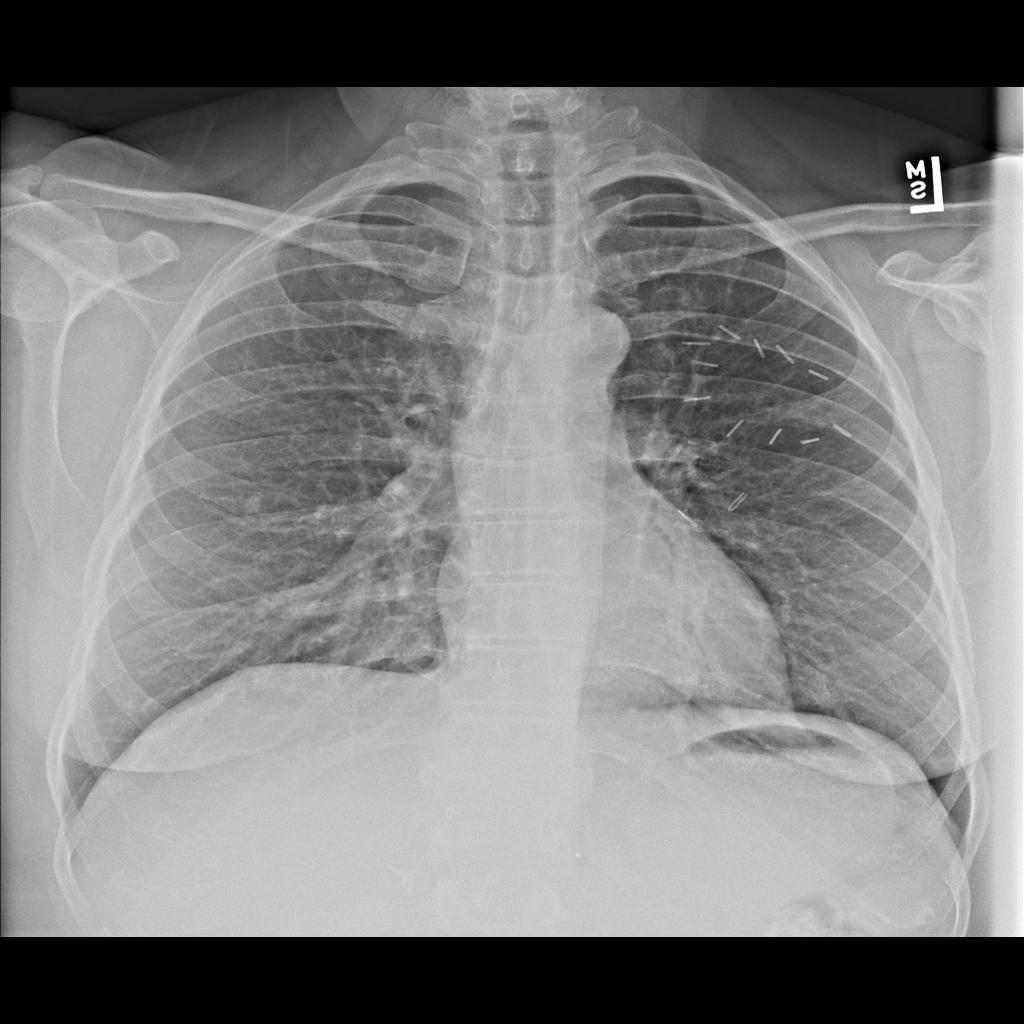Nodule: (241, 494, 266, 519)
